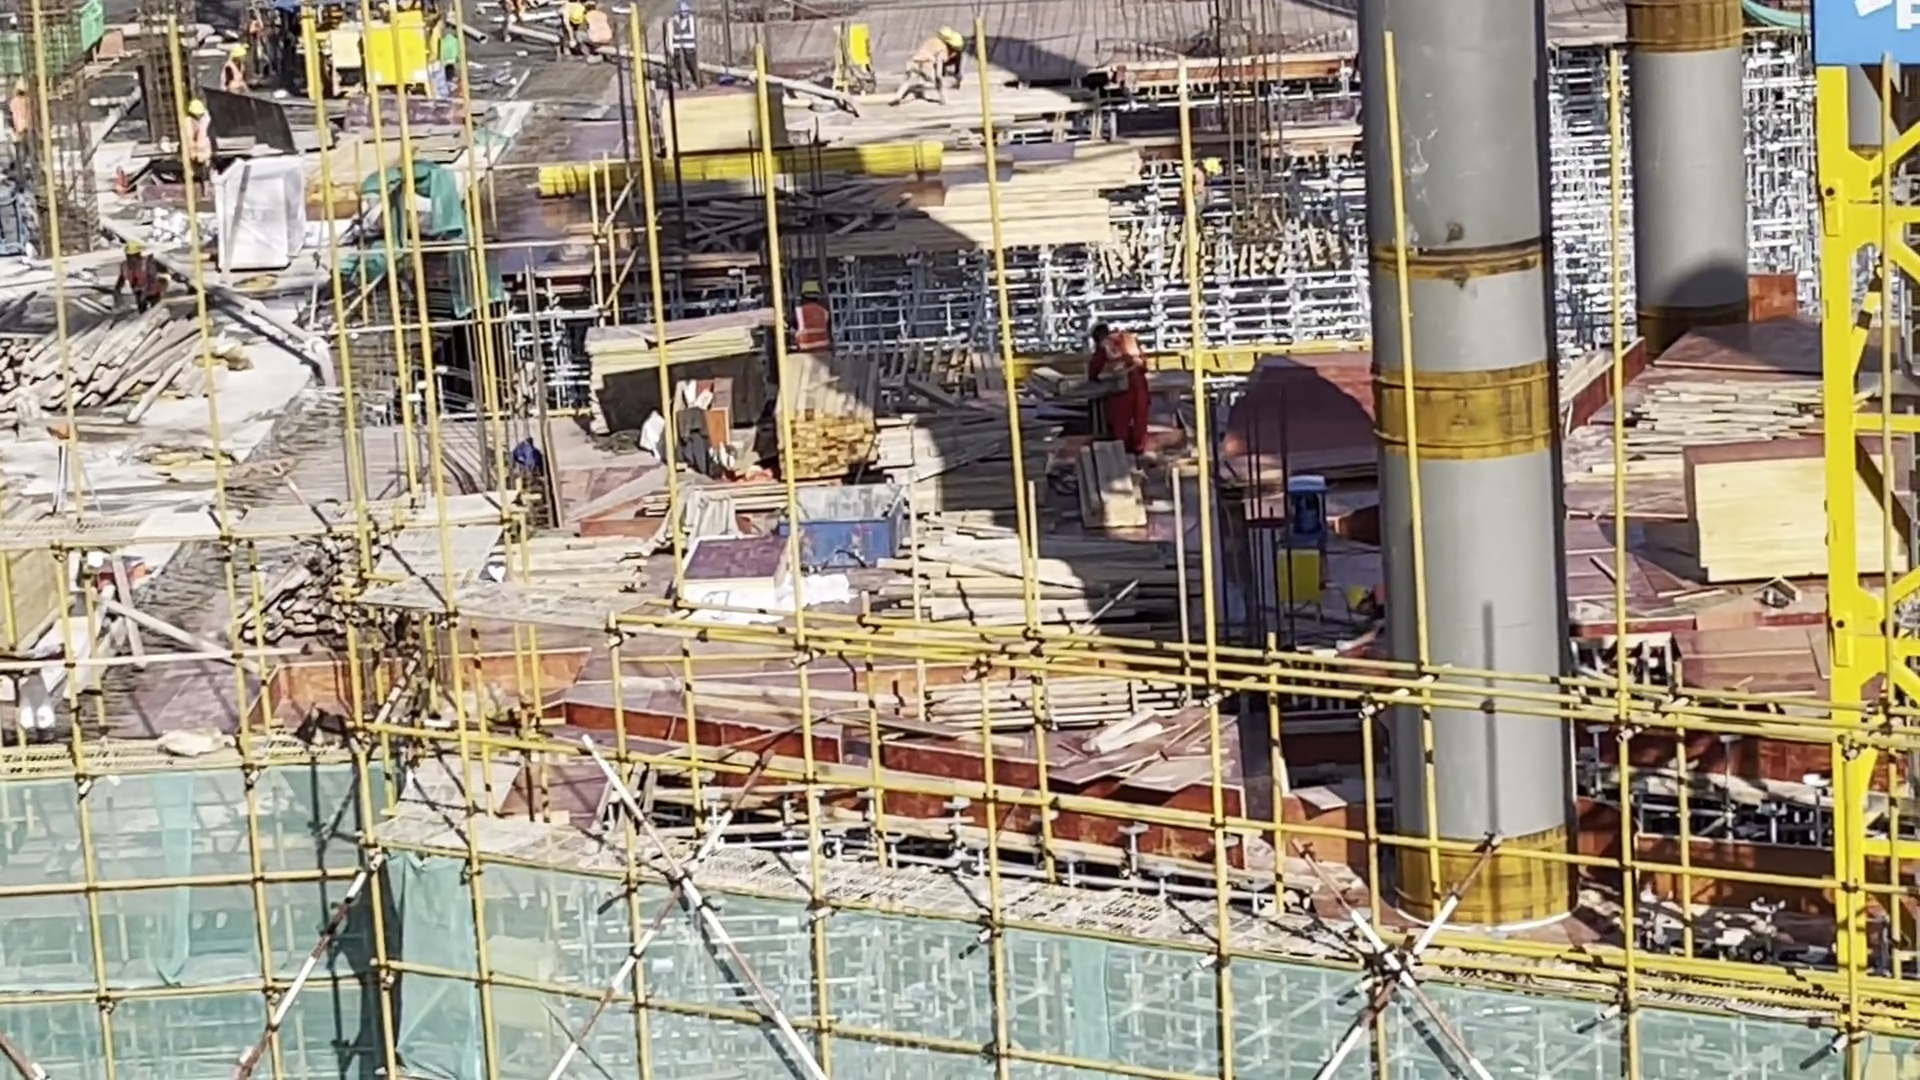helmet: (115, 234, 142, 263), (793, 275, 823, 300), (936, 26, 964, 53), (1199, 153, 1224, 179), (184, 88, 206, 113), (1088, 323, 1108, 342), (229, 46, 246, 64), (674, 2, 691, 19)
person: (1081, 320, 1160, 462), (903, 26, 961, 97), (109, 248, 167, 317), (783, 277, 835, 352), (667, 1, 703, 98), (180, 96, 212, 186), (582, 4, 614, 65), (216, 48, 247, 97)
vest: (1101, 339, 1143, 388), (582, 9, 615, 54), (794, 305, 826, 348), (667, 23, 694, 56)
